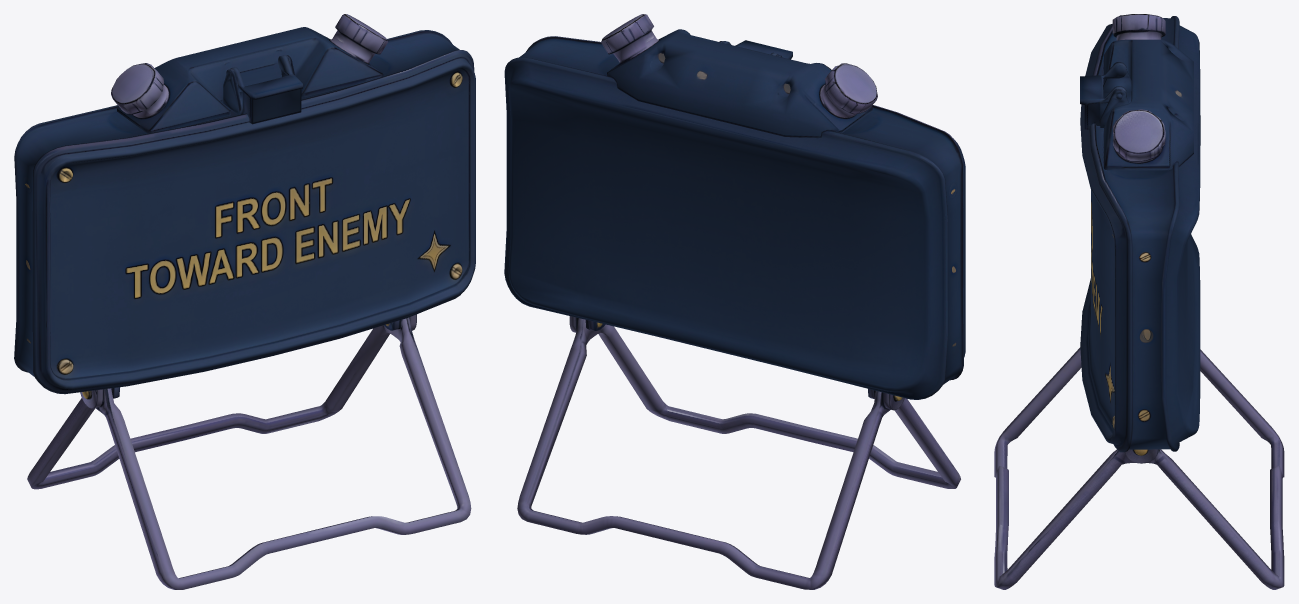
File: Char002_Claymore.fbx
3 renders of one model, left to right at view 1: azimuth 30°, elevation 25°; view 2: azimuth 150°, elevation 25°; view 3: azimuth 270°, elevation 25°, orthographic.
Parts seen in each view (by area): view 1: Char002_Claymore; view 2: Char002_Claymore; view 3: Char002_Claymore.
Boxes of the visible parts, x1,y1,x2,y2 form: Char002_Claymore: (14,14,475,589); Char002_Claymore: (504,14,965,589); Char002_Claymore: (994,14,1284,589).
Bounding box in the file's own units: 0.1591 × 0.1599 × 0.0916.
